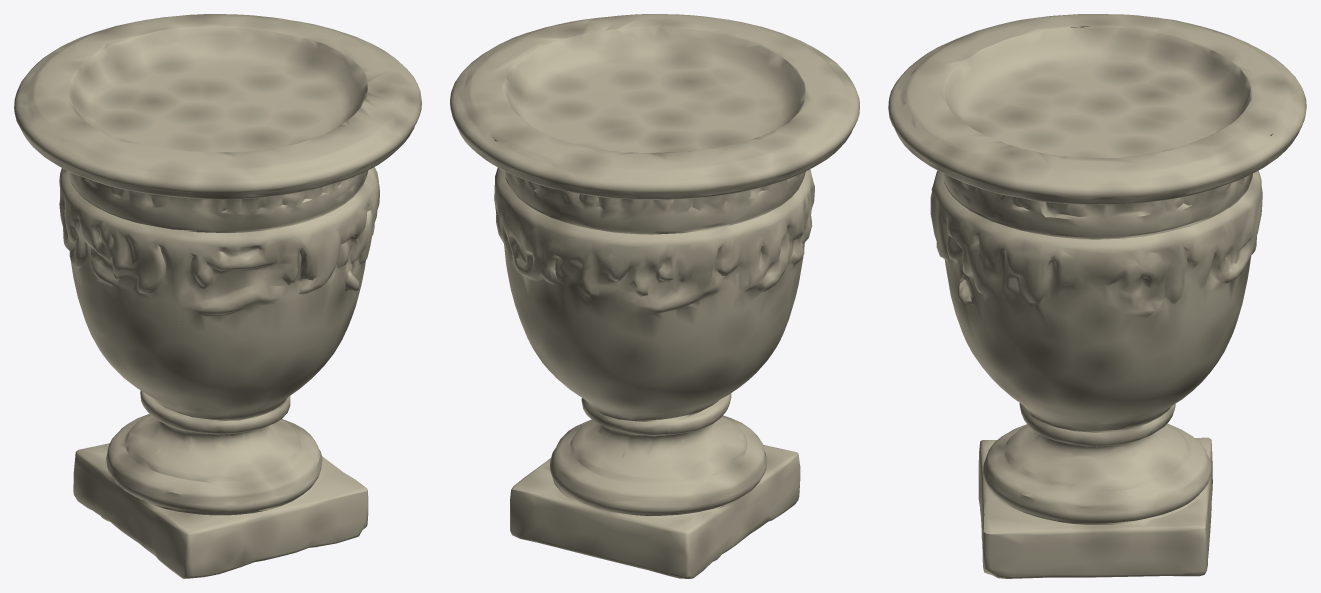
The model's file is limestone-planter-v003.glb.
3 views of the same model, side by side, from view 1: azimuth 30°, elevation 25°; view 2: azimuth 150°, elevation 25°; view 3: azimuth 270°, elevation 25° (orthographic). The views are drawn at different scales.
Parts seen in each view (by area): view 1: limestone-planter; view 2: limestone-planter; view 3: limestone-planter.
Part boxes in pixels (bbox=[...]): limestone-planter: bbox=[14, 14, 421, 578]; limestone-planter: bbox=[450, 14, 859, 578]; limestone-planter: bbox=[888, 14, 1306, 578].
Bounding box in the file's own units: 0.4311 × 0.5 × 0.4297.
1 material, 1 textured.
